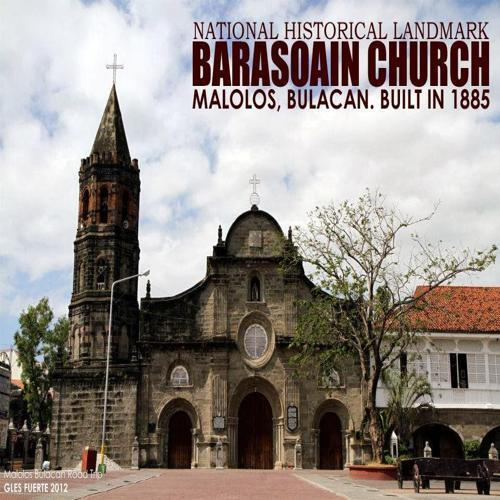Barasoain Church: (1, 45, 379, 478)
